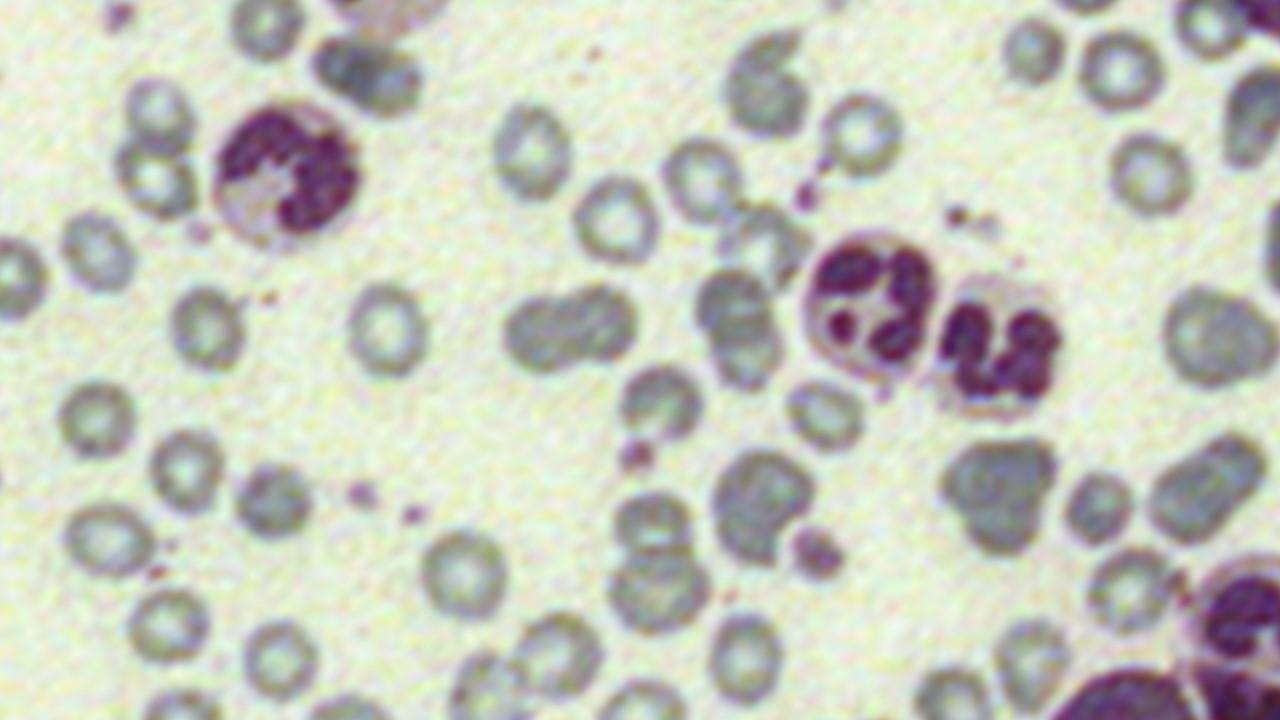RBC: (412, 522, 514, 629), (485, 95, 579, 209), (505, 606, 610, 708), (566, 168, 666, 274), (602, 542, 710, 639), (813, 85, 909, 188), (653, 129, 748, 233), (1071, 26, 1173, 121), (55, 496, 162, 586), (702, 604, 791, 712), (105, 125, 202, 223), (606, 485, 696, 589), (55, 200, 145, 302), (160, 276, 249, 379), (143, 422, 230, 525), (52, 370, 143, 468), (119, 584, 218, 672), (780, 369, 872, 462), (118, 65, 205, 163), (691, 264, 772, 356), (1, 220, 55, 330), (1250, 177, 1280, 331)
WBC: (202, 92, 364, 258), (801, 226, 947, 391), (930, 265, 1065, 428)
